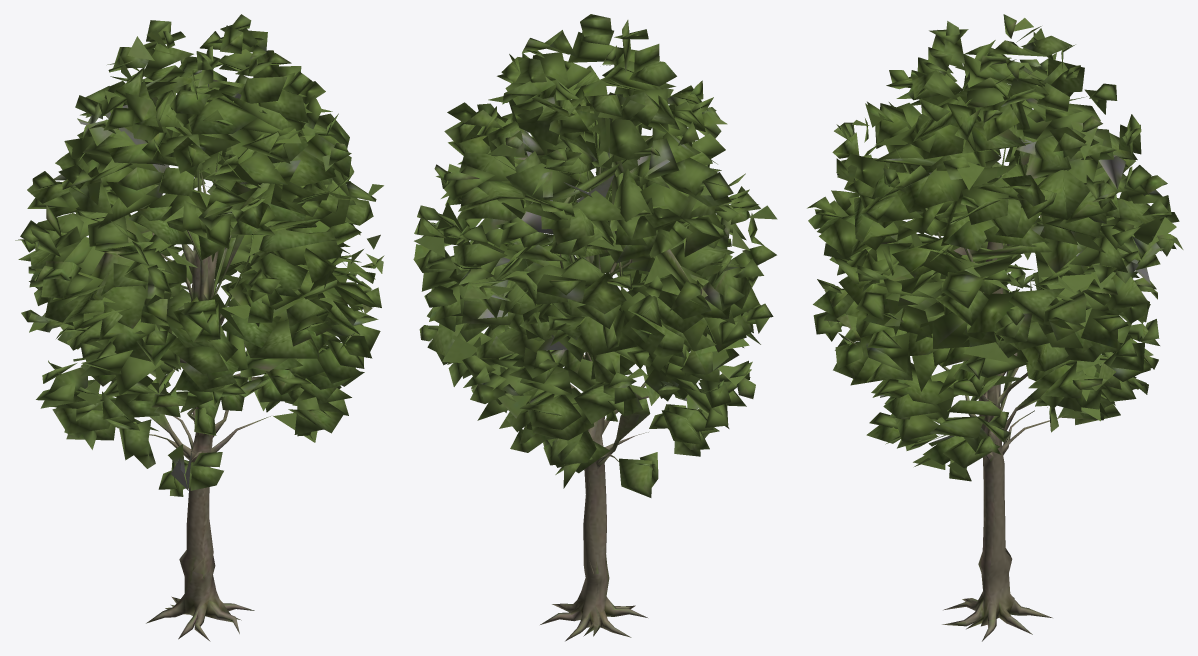
Rendered from tree_a_lod0.glb.
3 renders of one model, left to right at view 1: azimuth 30°, elevation 25°; view 2: azimuth 150°, elevation 25°; view 3: azimuth 270°, elevation 25°, orthographic.
Size of the model in its own units: 0.5596 by 0.9492 by 0.5483.
1 material, 1 textured.
